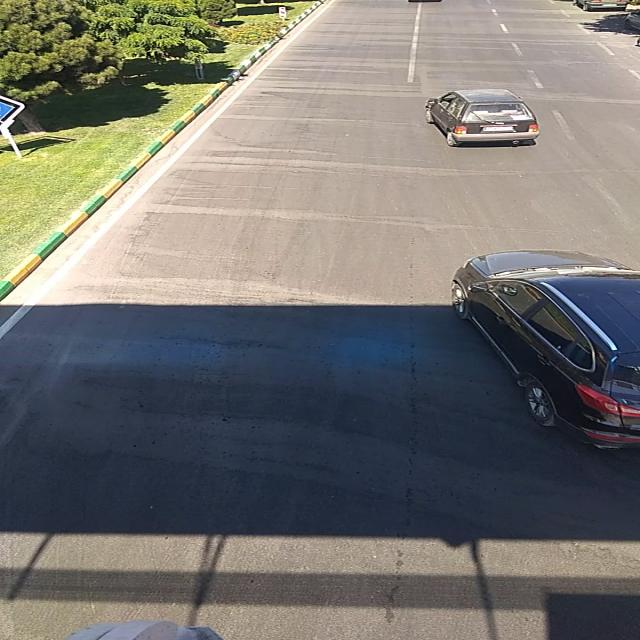car: (450, 251, 637, 454), (423, 89, 541, 151)
